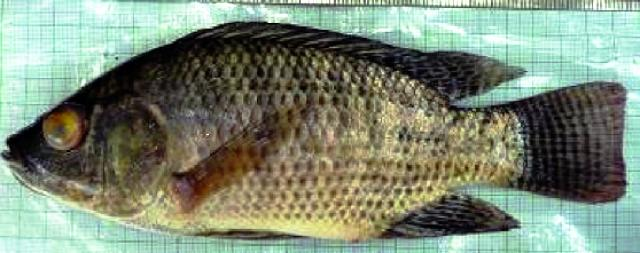Tilapia Lake Virus -TiLV-: (2, 22, 624, 241), (2, 22, 624, 241), (3, 23, 626, 241)
